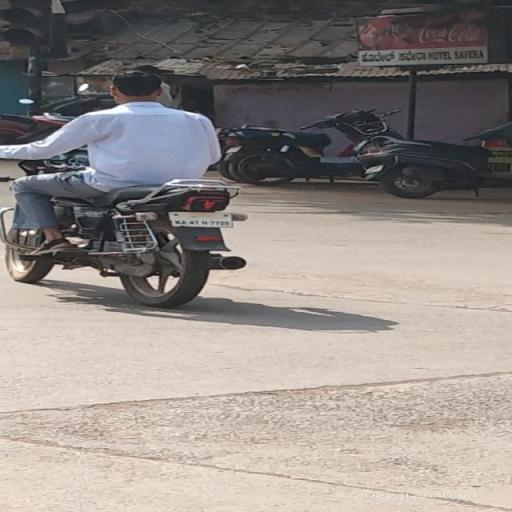bike: (0, 67, 253, 309)
numberplate: (169, 210, 233, 228)
withouthelmet: (113, 71, 163, 102)
